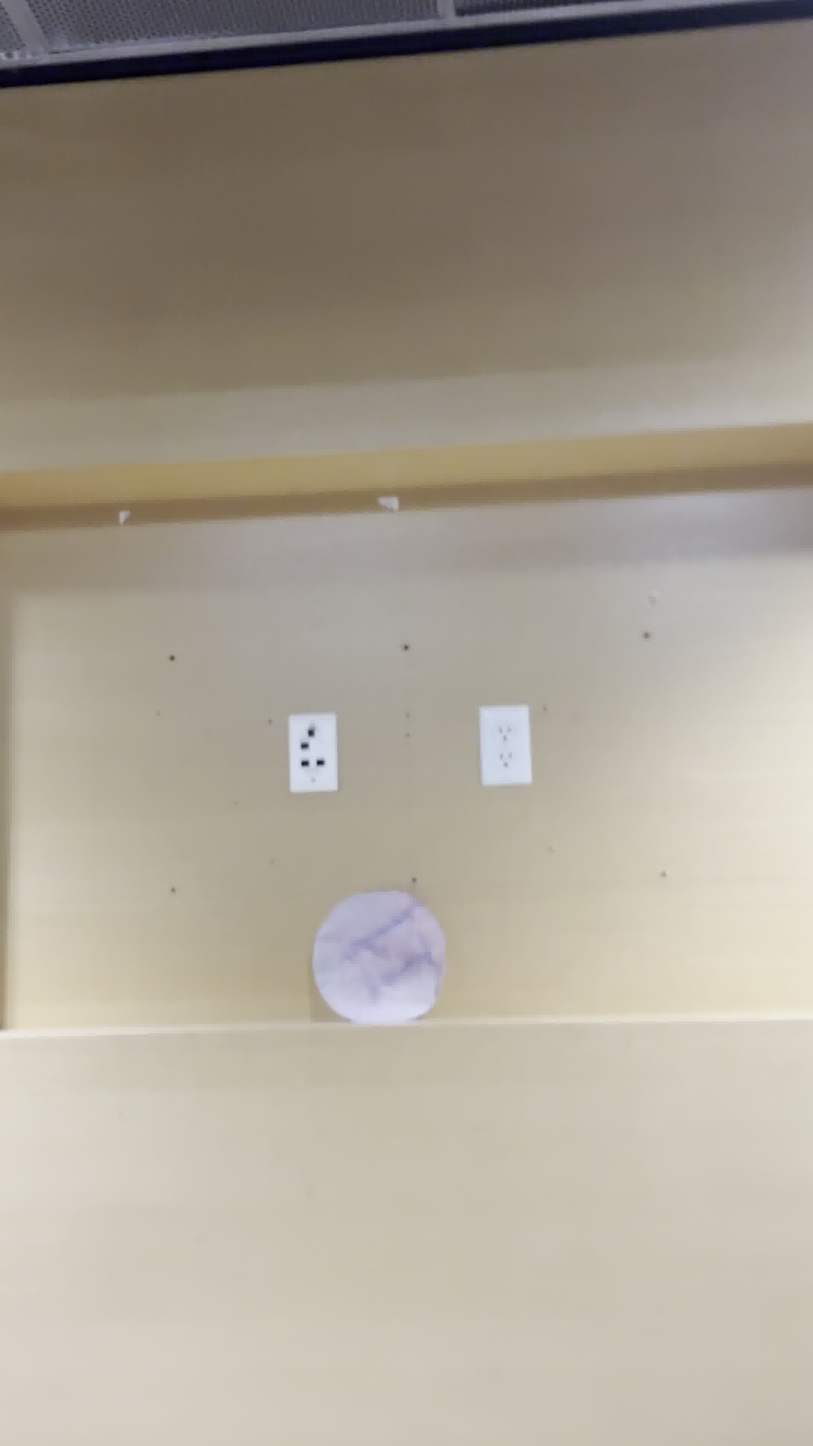Target: (313, 887, 446, 1022)
